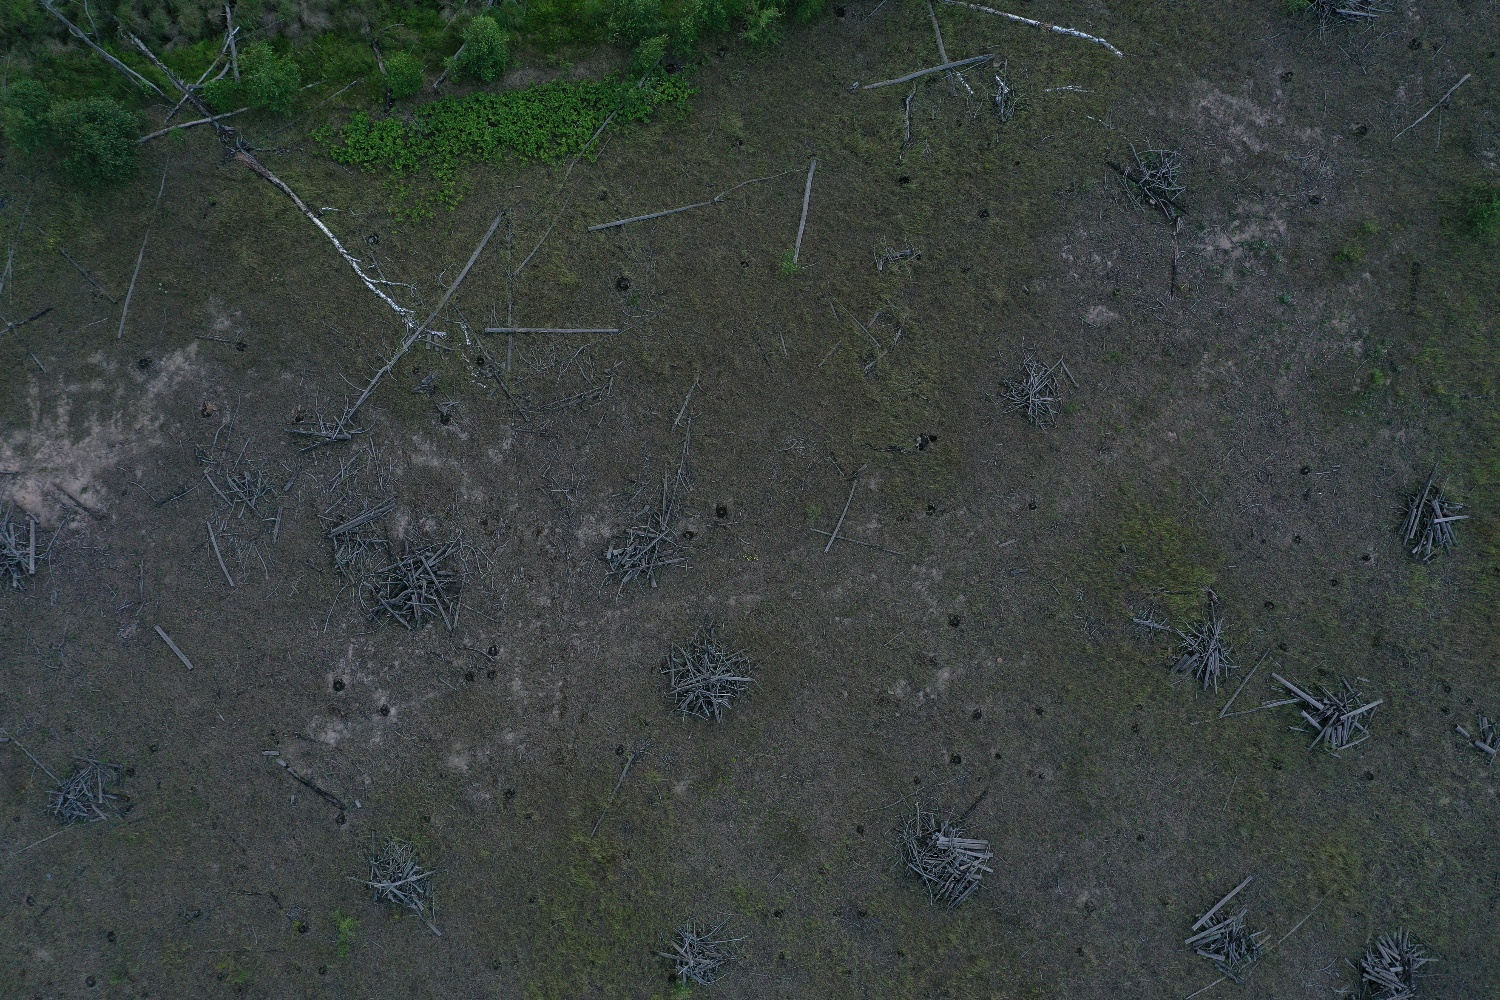branches: (366, 532, 492, 634), (1177, 876, 1286, 983), (891, 802, 996, 908), (656, 617, 754, 725), (1271, 669, 1384, 753), (1100, 135, 1198, 230), (348, 828, 437, 922), (602, 508, 694, 596), (1397, 460, 1474, 562), (650, 916, 752, 987), (1346, 926, 1440, 1000), (1169, 609, 1244, 694), (326, 494, 406, 573), (1000, 353, 1081, 430), (46, 754, 131, 827), (1, 515, 38, 592)
